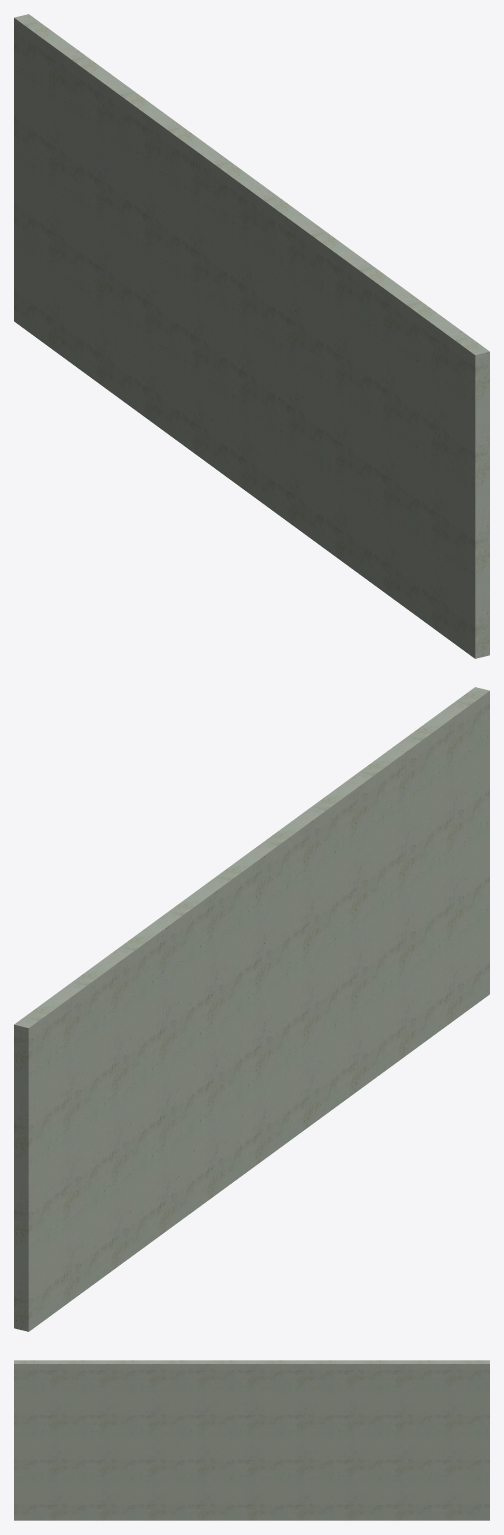
File: souplongwall030.glb
3 views of the same model, one above another, from view 1: azimuth 30°, elevation 25°; view 2: azimuth 150°, elevation 25°; view 3: azimuth 270°, elevation 25° (orthographic). The views are drawn at different scales.
Parts seen in each view (by area): view 1: souplongwall030_high_1; view 2: souplongwall030_high_1; view 3: souplongwall030_high_1.
Boxes of the visible parts, x1=… form: souplongwall030_high_1: x1=14, y1=14, x2=489, y2=658; souplongwall030_high_1: x1=14, y1=687, x2=489, y2=1331; souplongwall030_high_1: x1=14, y1=1360, x2=489, y2=1520.
Size of the model in its own units: 0.1504 by 2.95 by 8.11.
1 material, 1 textured.
